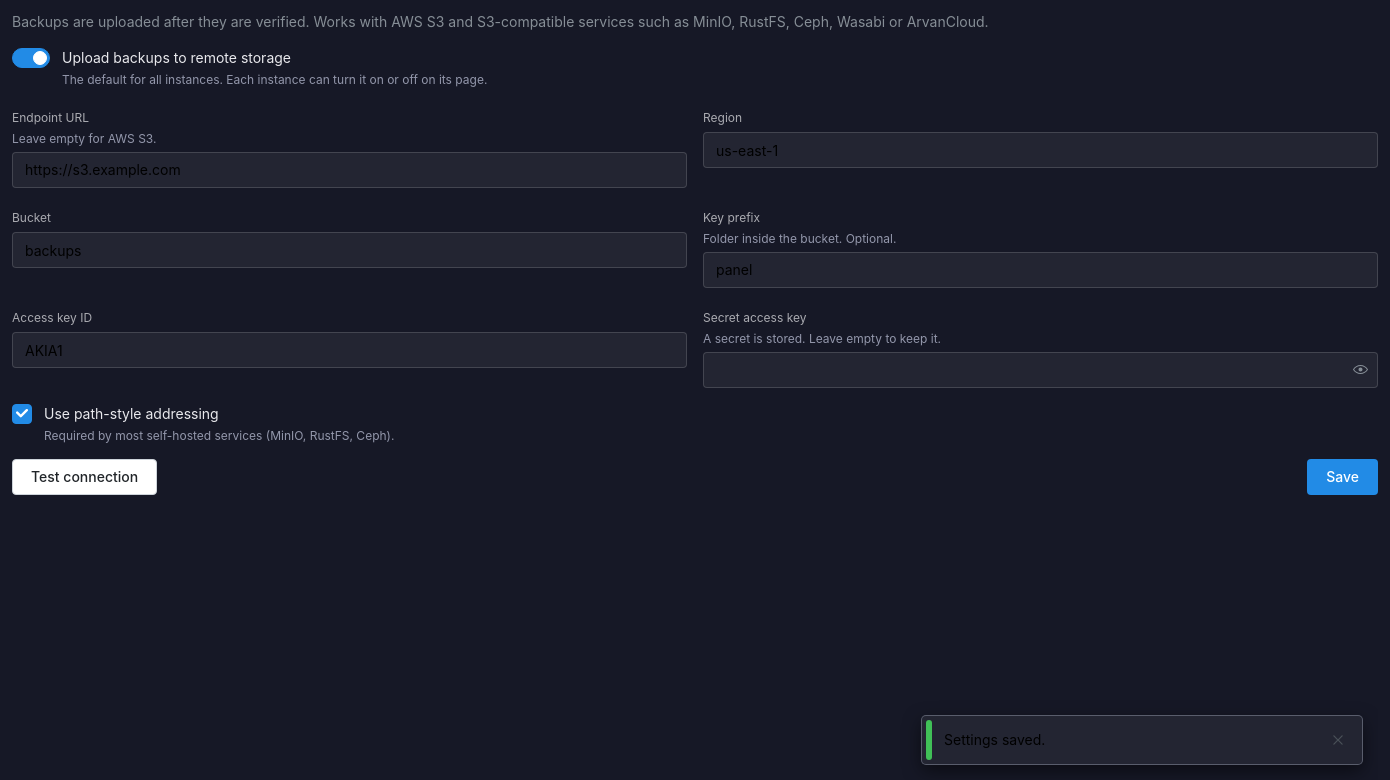
Test: RemoteStorageForm › shows a failed connection test with its reason
Click the button "Test connection": (85, 477) left=12, top=459, right=157, bottom=495
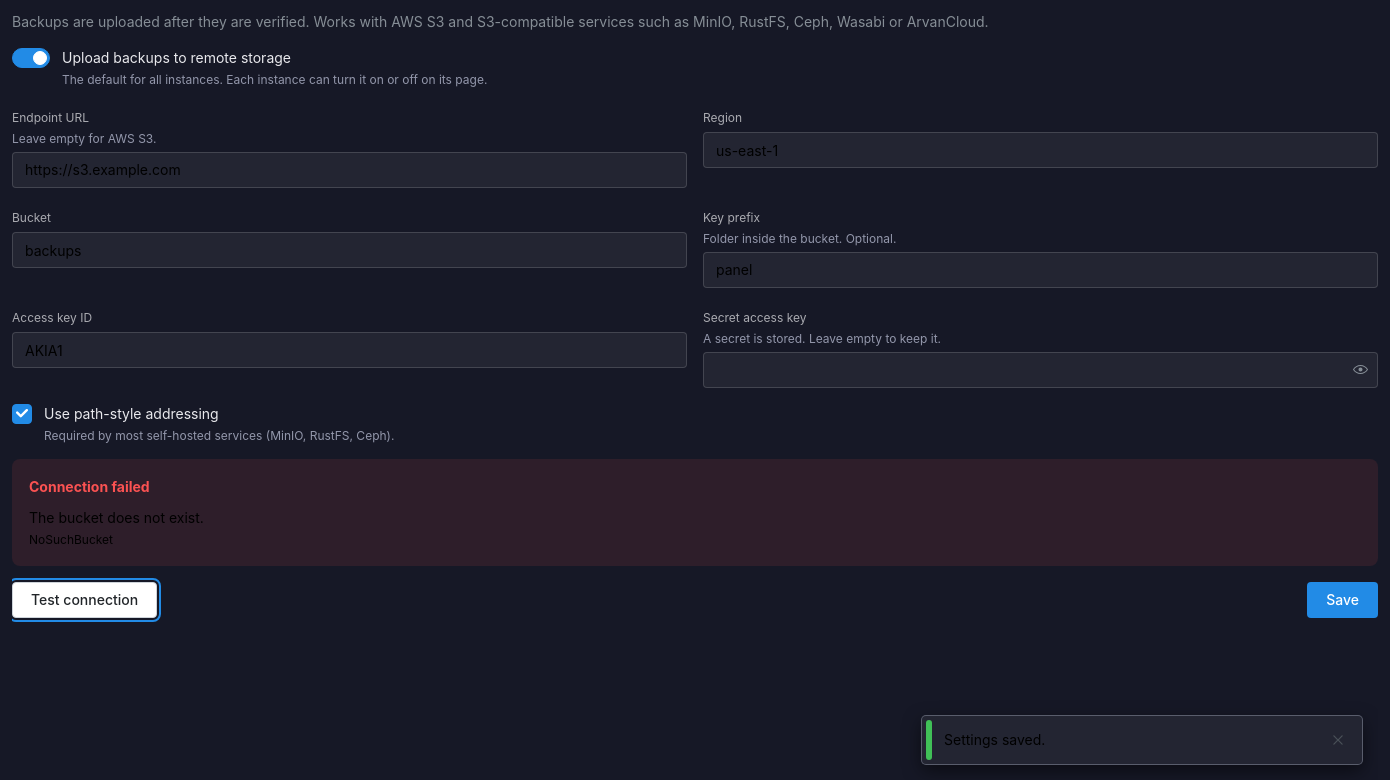
Expected: the message with test id "remote-test-result" shows "The bucket does not exist.", left=29, top=509, right=204, bottom=526
Expected: the message with test id "remote-test-result" shows "NoSuchBucket", left=29, top=532, right=113, bottom=547
